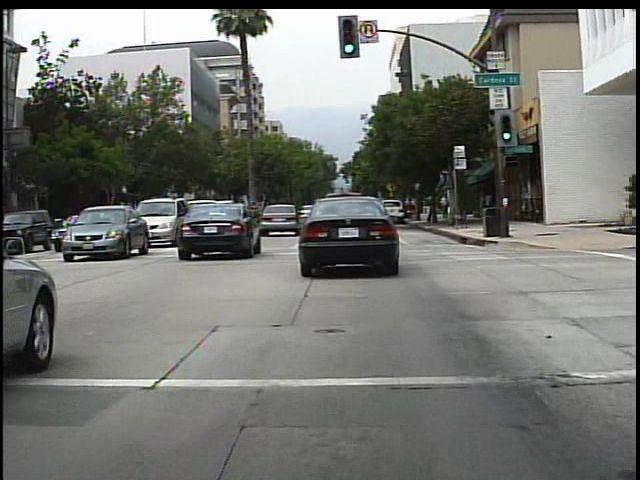person: (435, 191, 455, 225)
